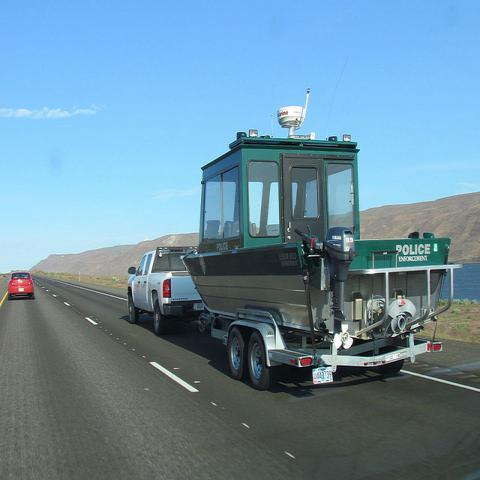car: (8, 271, 36, 300)
truck: (183, 88, 460, 392), (127, 245, 207, 336)
